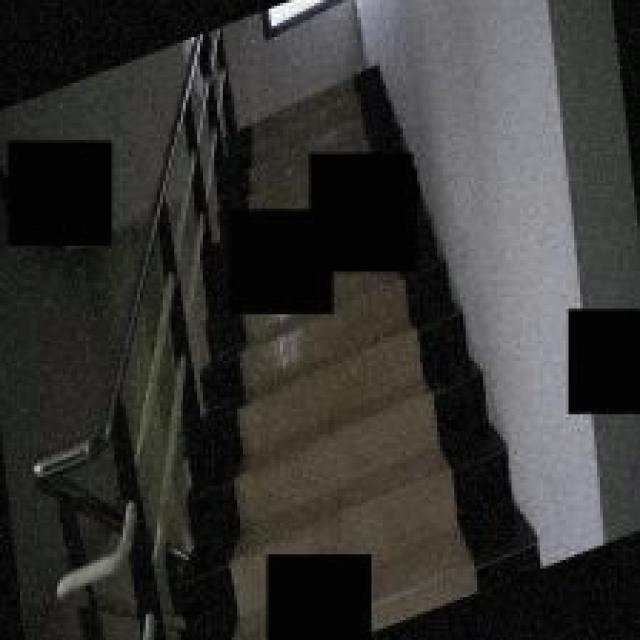upstair: (193, 321, 513, 535)
